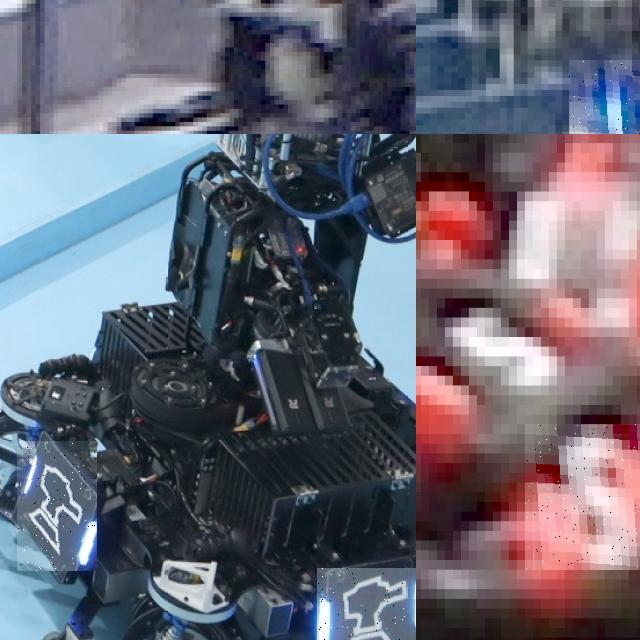B2: (569, 60, 640, 134)
Bs: (17, 441, 97, 571), (317, 568, 416, 640)
R5: (525, 424, 640, 569)
